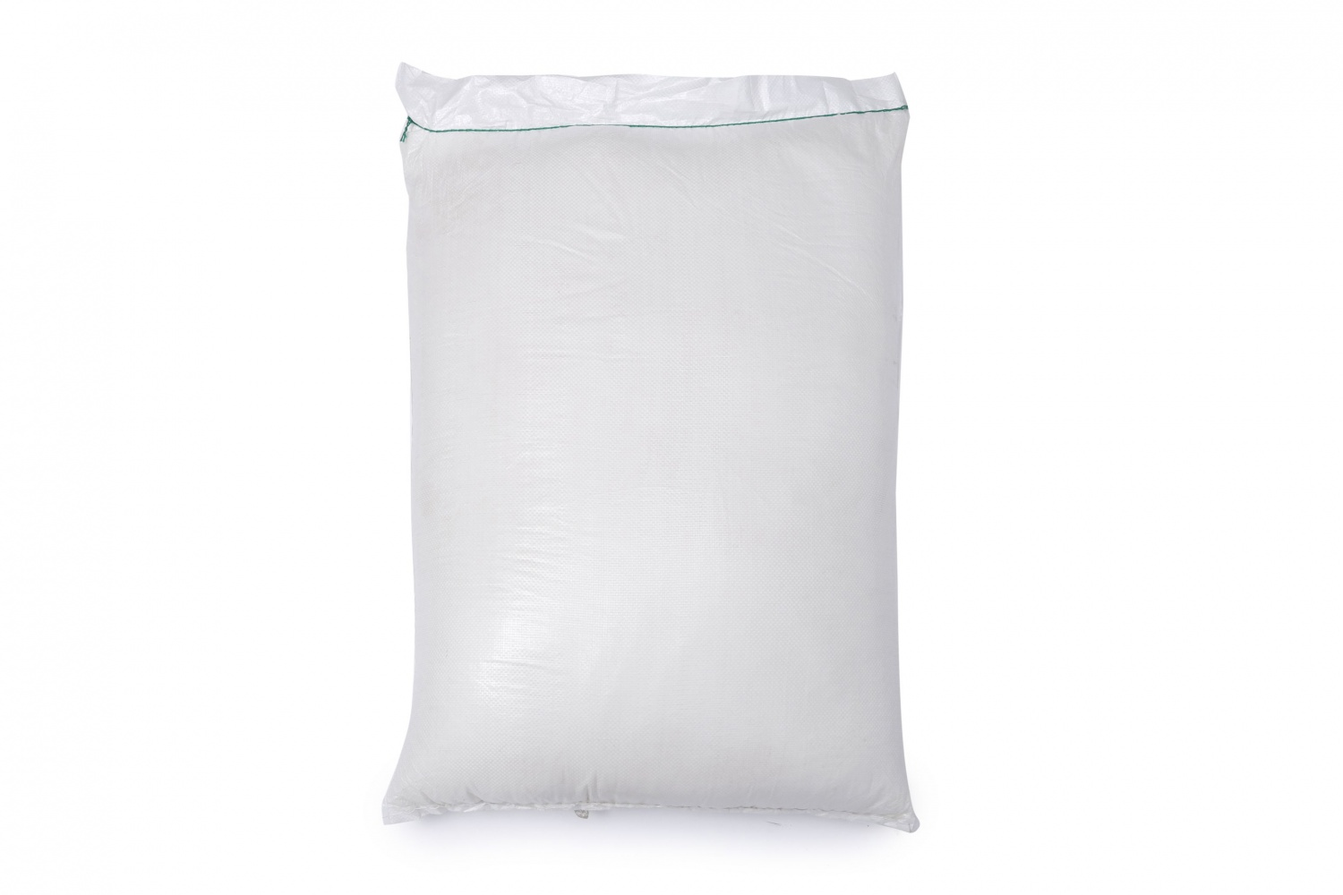Parcel: (384, 64, 917, 831)
